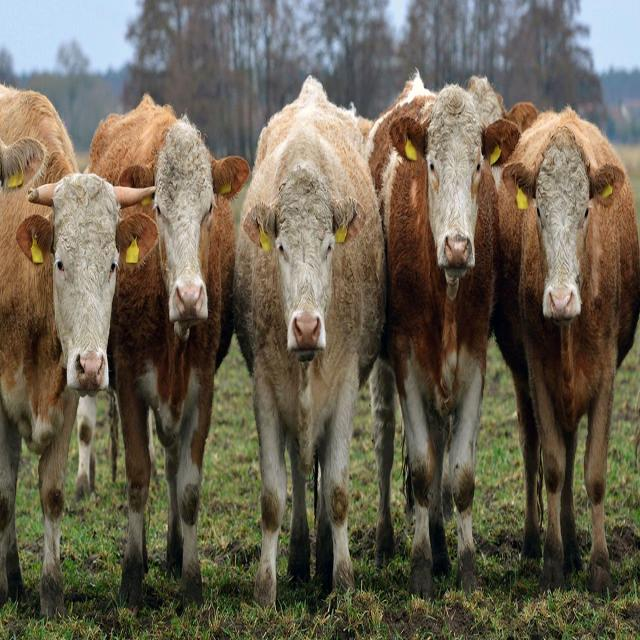cow: (88, 94, 249, 610), (0, 86, 154, 616), (366, 72, 520, 596), (234, 76, 385, 605), (492, 107, 640, 594)
